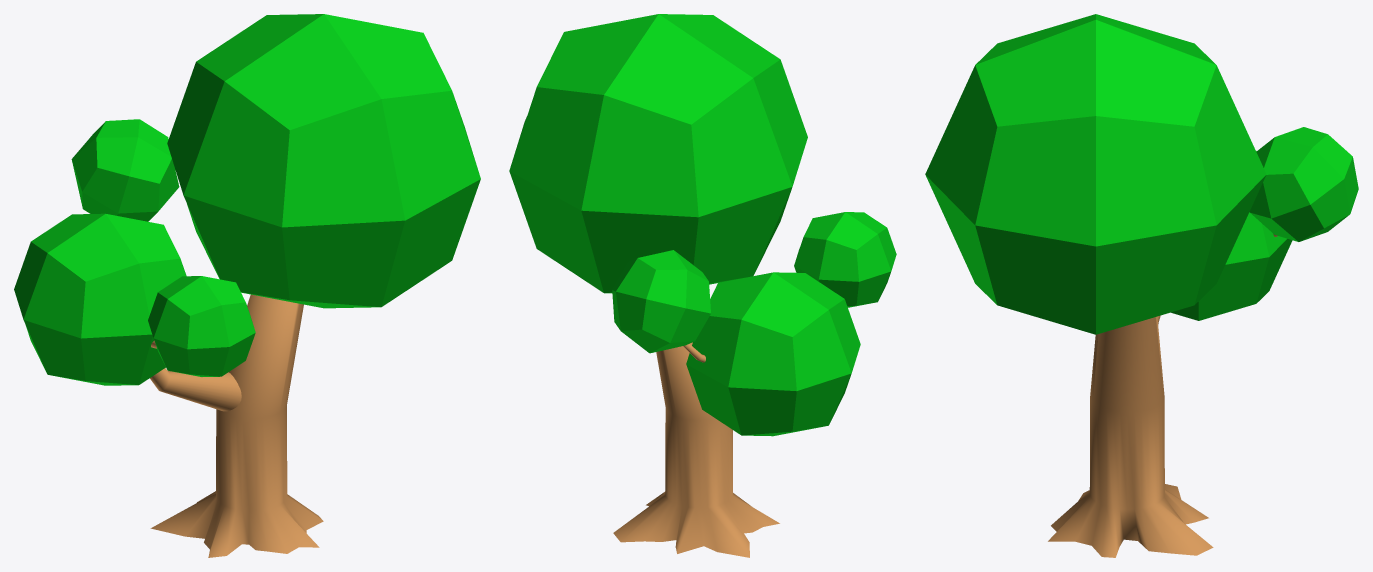
File: tree-lowPoly.fbx
3 views of the same model, side by side, from view 1: azimuth 30°, elevation 25°; view 2: azimuth 150°, elevation 25°; view 3: azimuth 270°, elevation 25° (orthographic). The views are drawn at different scales.
Visible parts, largest first — view 1: Cylinder; view 2: Cylinder; view 3: Cylinder.
Boxes of the visible parts, x1,y1,x2,y2 form: Cylinder: (14, 14, 480, 557); Cylinder: (509, 14, 896, 557); Cylinder: (925, 14, 1358, 557).
Size of the model in its own units: 506 by 629 by 461.
